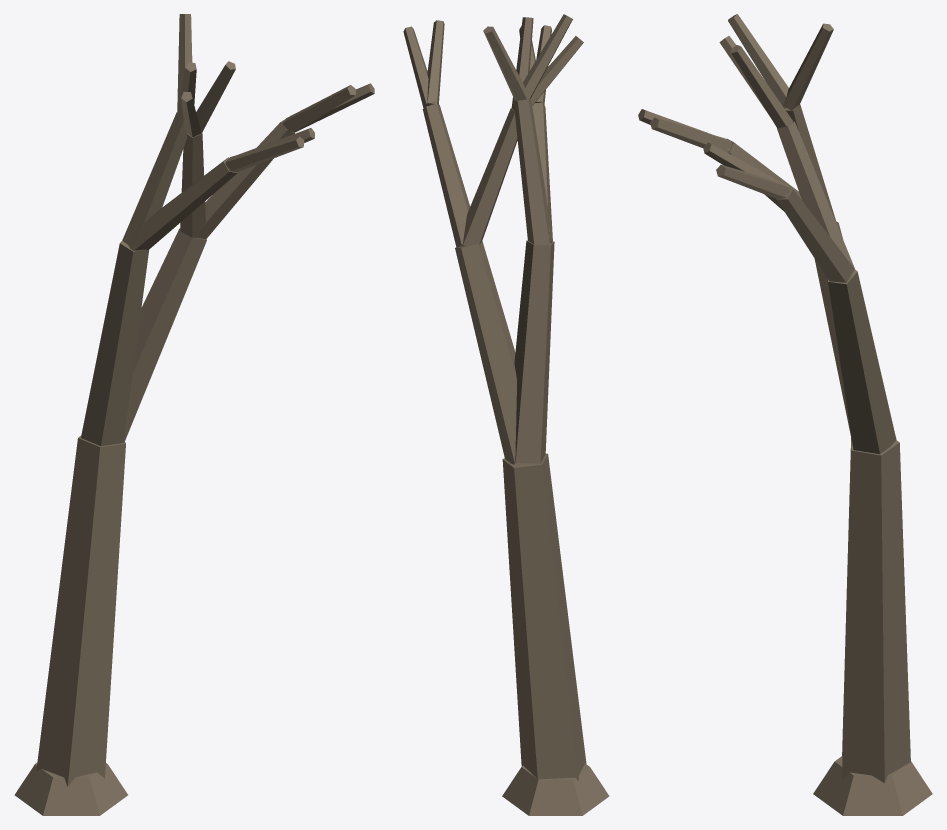
Rendered from SM_Dead_Tree.obj.
3 renders of one model, left to right at view 1: azimuth 30°, elevation 25°; view 2: azimuth 150°, elevation 25°; view 3: azimuth 270°, elevation 25°, orthographic. The views are drawn at different scales.
Parts seen in each view (by area): view 1: SM_Dead_Tree; view 2: SM_Dead_Tree; view 3: SM_Dead_Tree.
Part boxes in pixels (bbox=[...]): SM_Dead_Tree: bbox=[14, 14, 374, 815]; SM_Dead_Tree: bbox=[403, 14, 609, 815]; SM_Dead_Tree: bbox=[638, 14, 932, 815].
Size of the model in its own units: 1.39 by 3.76 by 1.23.
